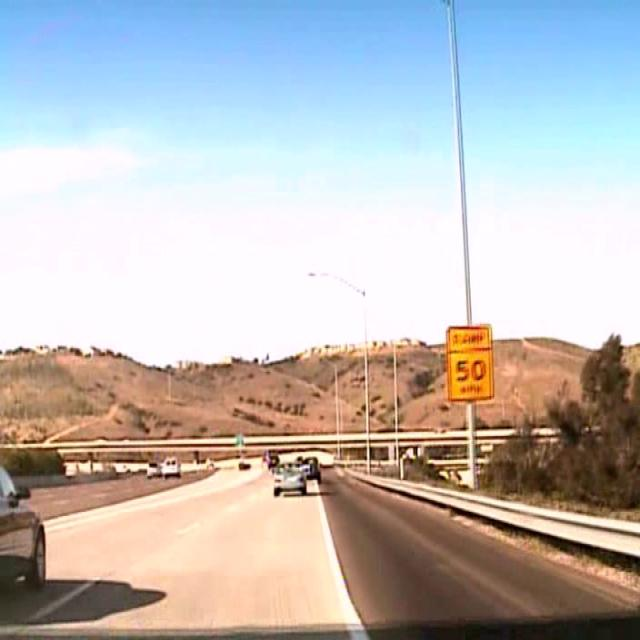speedLimit50: (444, 322, 494, 402)
